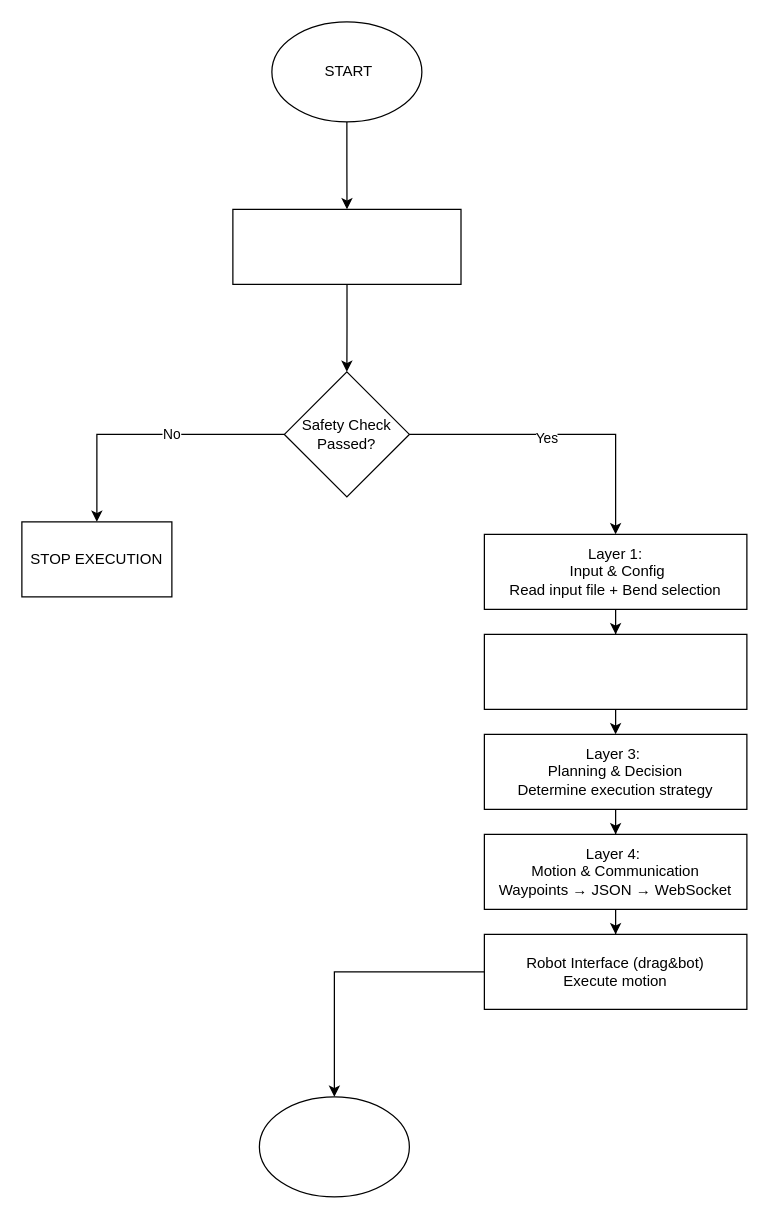
Some shapes in this 769 by 1219 pixel diagram are drawn without their labels. The centre of each missing label's shape, as x and y in pixels:
END: the point at 333,1146
Layer 2: Geometry & Constraint Evaluate constraints (no move): the point at 615,671
Layer 5- Safety & Validation Pre-execution safety check Operator confirmation: the point at 346,246
